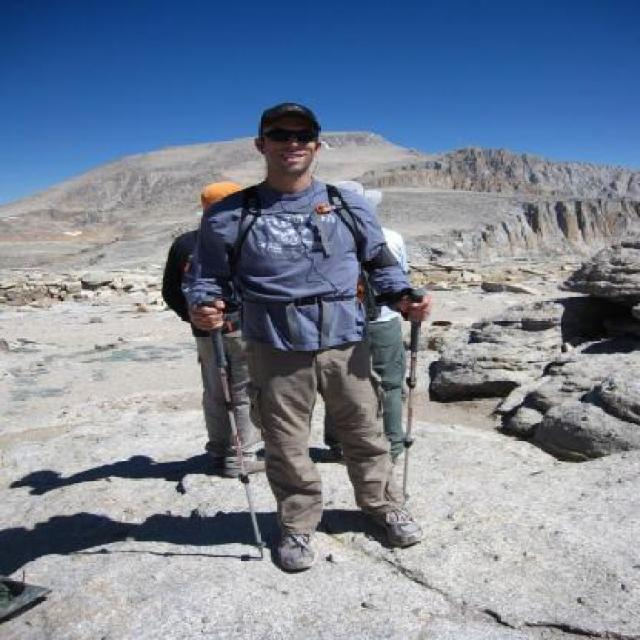backpack: (324, 183, 362, 249), (229, 185, 263, 248)
